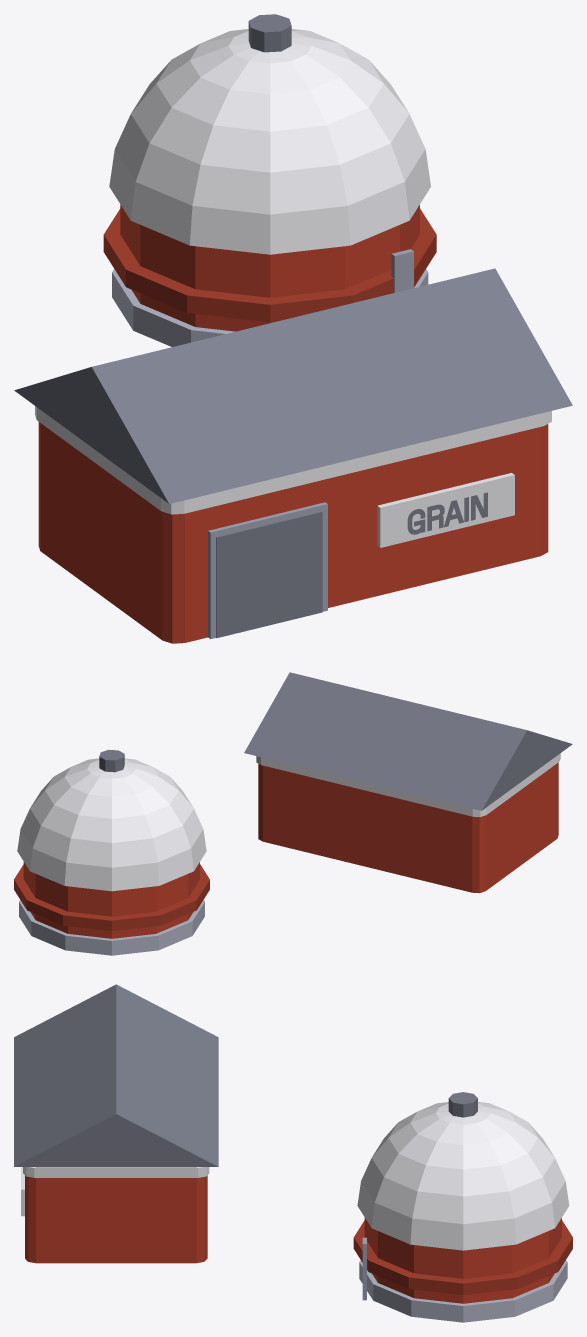
The model's file is silo-2x2-t1-tone-a.glb.
3 views of the same model, one above another, from view 1: azimuth 30°, elevation 25°; view 2: azimuth 150°, elevation 25°; view 3: azimuth 270°, elevation 25° (orthographic). The views are drawn at different scales.
Parts seen in each view (by area): view 1: silo-2x2-t1-tone-a; view 2: silo-2x2-t1-tone-a; view 3: silo-2x2-t1-tone-a.
Boxes of the visible parts, x1,y1,x2,y2 form: silo-2x2-t1-tone-a: [14, 14, 572, 643]; silo-2x2-t1-tone-a: [14, 672, 572, 955]; silo-2x2-t1-tone-a: [14, 984, 572, 1322].
Bounding box in the file's own units: 1.22 × 0.545 × 1.53.
1 material, 1 textured.
